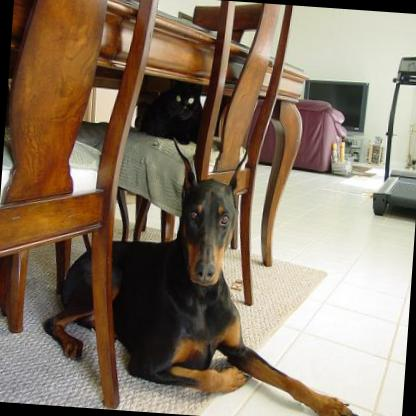Doberman: (36, 124, 378, 416)
